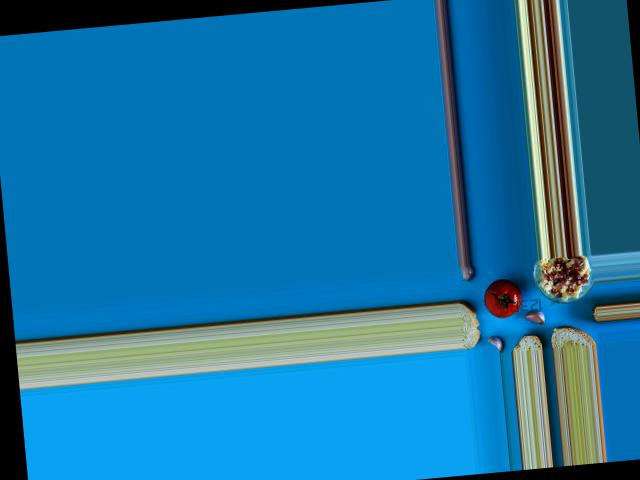tomato: (482, 277, 521, 319)
